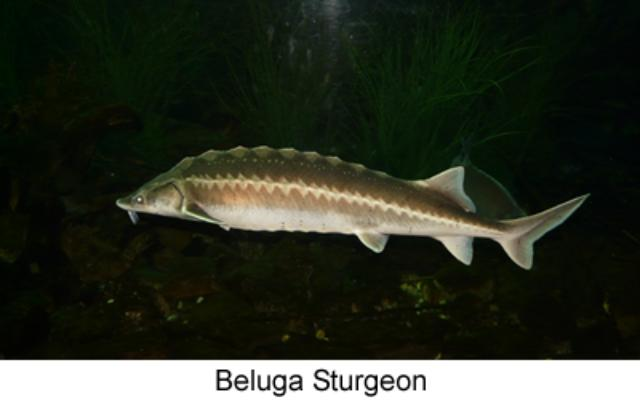Sirip Anal: (430, 229, 482, 271)
Sirip Dada: (177, 189, 233, 240)
Sirip Ekor: (492, 176, 596, 280)
Sirip Perut: (356, 217, 392, 266)
Sirip Punggung: (421, 157, 484, 217)
